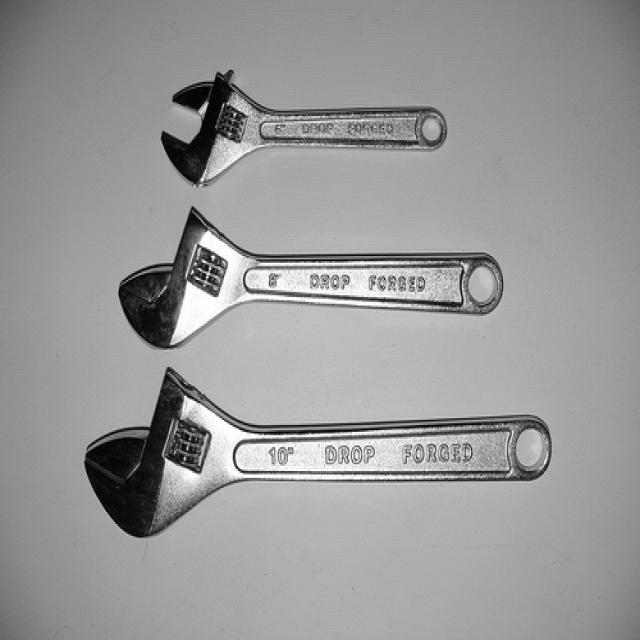wrench: (71, 360, 566, 567), (87, 192, 528, 346), (140, 55, 478, 206)
